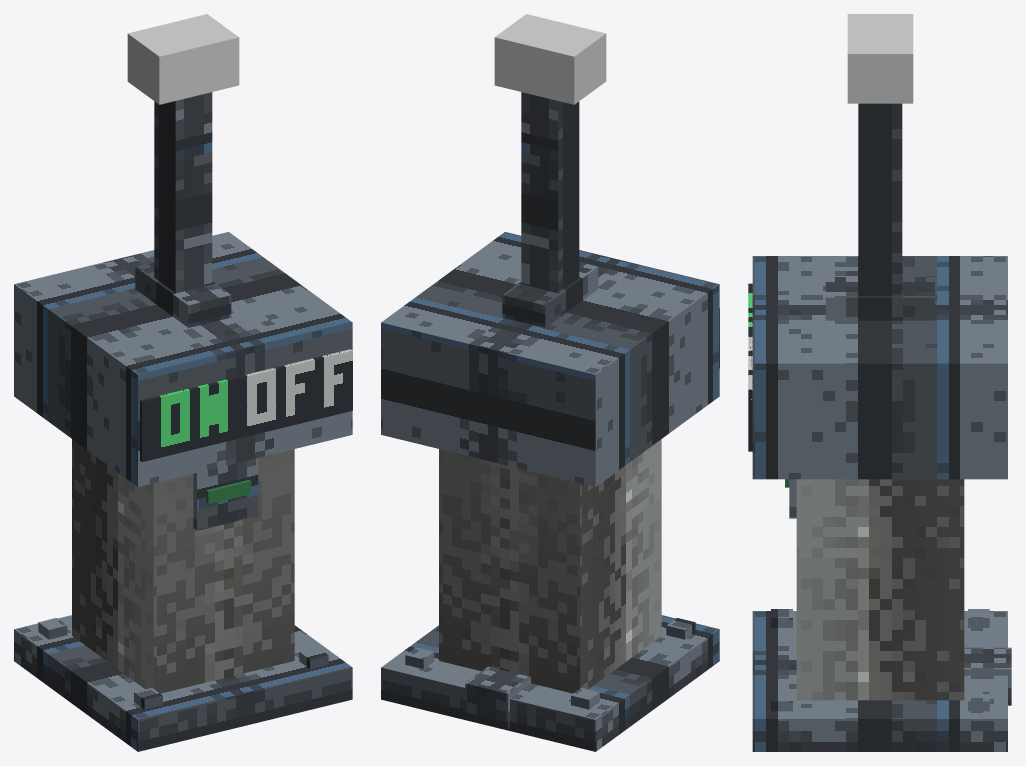
File: ck_floor_lever.glb
3 views of the same model, side by side, from view 1: azimuth 30°, elevation 25°; view 2: azimuth 150°, elevation 25°; view 3: azimuth 270°, elevation 25° (orthographic). The views are drawn at different scales.
Parts seen in each view (by area): view 1: ck_floor_lever, lever_arm, lever_grip, pilot_bar; view 2: ck_floor_lever, lever_arm, lever_grip; view 3: ck_floor_lever, lever_arm, lever_grip.
Boxes of the visible parts, bbox=[...] form: ck_floor_lever: bbox=[14, 232, 352, 751]; lever_arm: bbox=[154, 92, 212, 292]; lever_grip: bbox=[127, 14, 239, 104]; pilot_bar: bbox=[206, 480, 251, 504]; ck_floor_lever: bbox=[381, 232, 719, 751]; lever_arm: bbox=[521, 92, 579, 292]; lever_grip: bbox=[494, 14, 606, 104]; ck_floor_lever: bbox=[748, 256, 1011, 751]; lever_arm: bbox=[858, 103, 902, 295]; lever_grip: bbox=[847, 14, 913, 103].
Size of what is drawn, in the model's own units: 0.7 by 2.01 by 0.722.
Materials: 5 (5 with a texture image).
